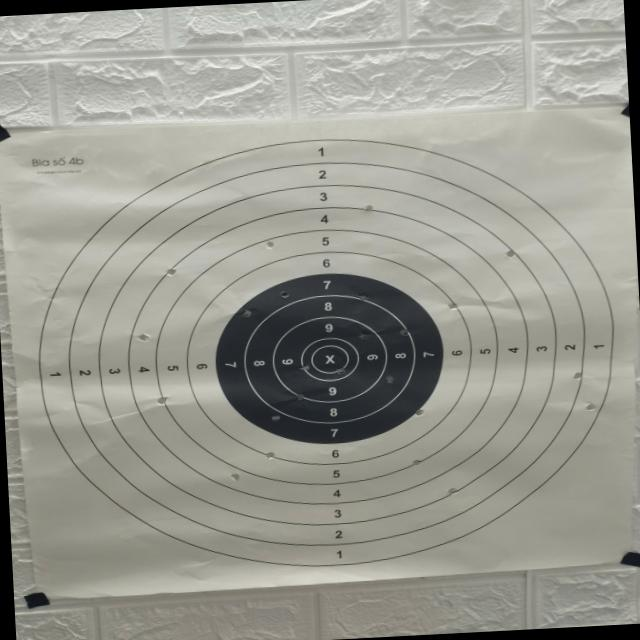bullet: (137, 334, 151, 342), (166, 268, 177, 276), (157, 397, 166, 406), (506, 249, 516, 257), (586, 403, 597, 410), (448, 301, 457, 309), (359, 333, 371, 339), (385, 375, 394, 383), (231, 473, 240, 481), (243, 309, 252, 317), (448, 488, 458, 495), (265, 452, 275, 459), (362, 205, 373, 211), (266, 241, 274, 249), (281, 290, 289, 298), (415, 409, 424, 416), (573, 372, 582, 379), (400, 329, 410, 335), (336, 368, 345, 374), (295, 394, 304, 400), (412, 460, 422, 465), (359, 295, 368, 300), (300, 365, 309, 370), (272, 416, 280, 421)
target: (0, 110, 635, 595)
